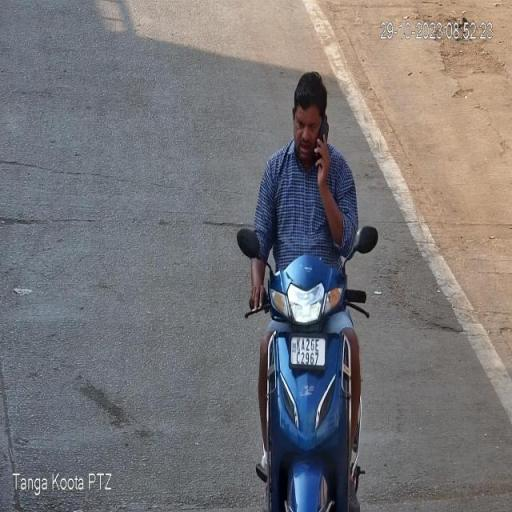numberplate: (292, 336, 325, 367)
using mobile: (313, 107, 333, 171)
